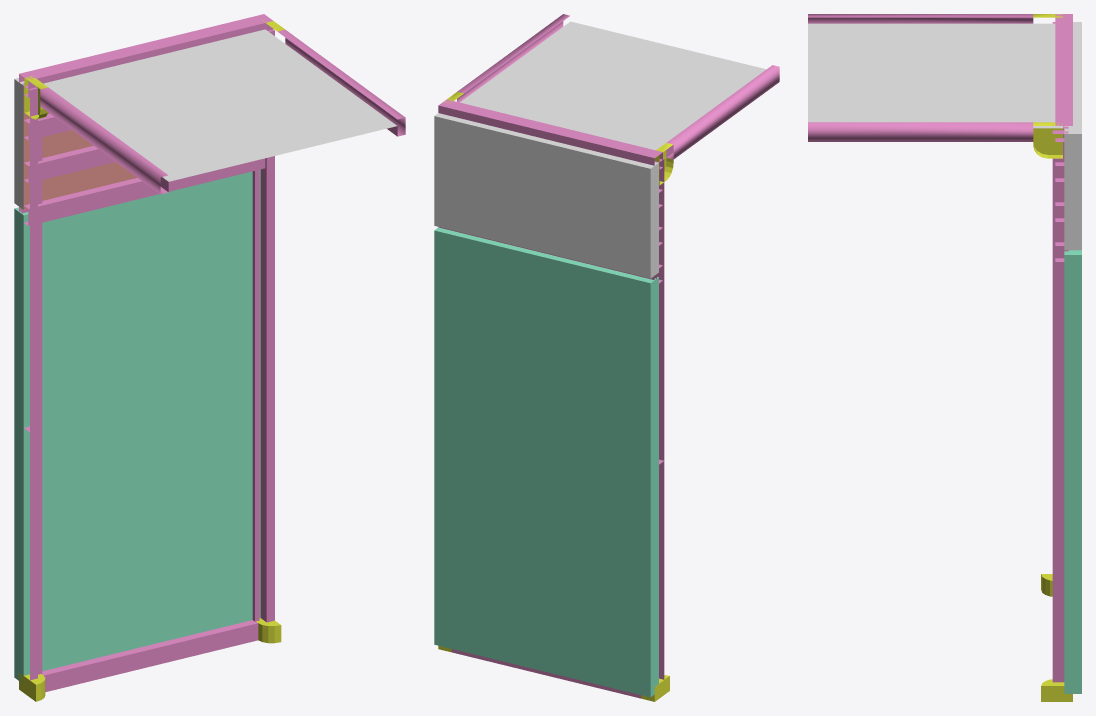
File: Wall Segment Glass.fbx
3 views of the same model, side by side, from view 1: azimuth 30°, elevation 25°; view 2: azimuth 150°, elevation 25°; view 3: azimuth 270°, elevation 25° (orthographic). The views are drawn at different scales.
Visible parts, largest first — view 1: Cube.017; view 2: Cube.017; view 3: Cube.017.
Part boxes in pixels (x1,y1,x2,y2): Cube.017: [14, 14, 405, 701]; Cube.017: [434, 14, 779, 701]; Cube.017: [808, 14, 1081, 701].
Bounding box in the file's own units: 3 × 7.2 × 3.1.
